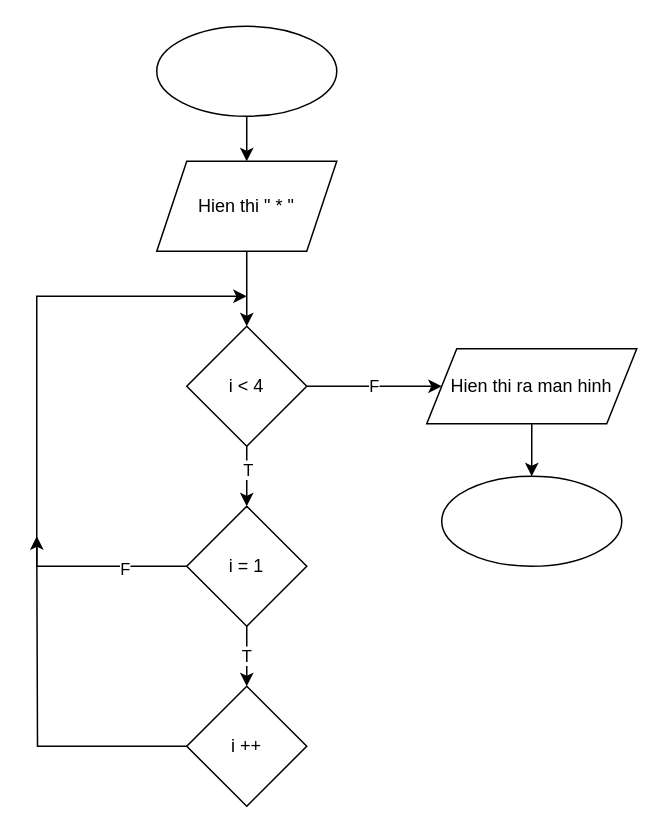
This 663x833 diagram has some shape labels left out. Here are the shapes that lost their labels. From the top down, the centre of each, then its label:
(x=246, y=70): Start
(x=531, y=520): End
